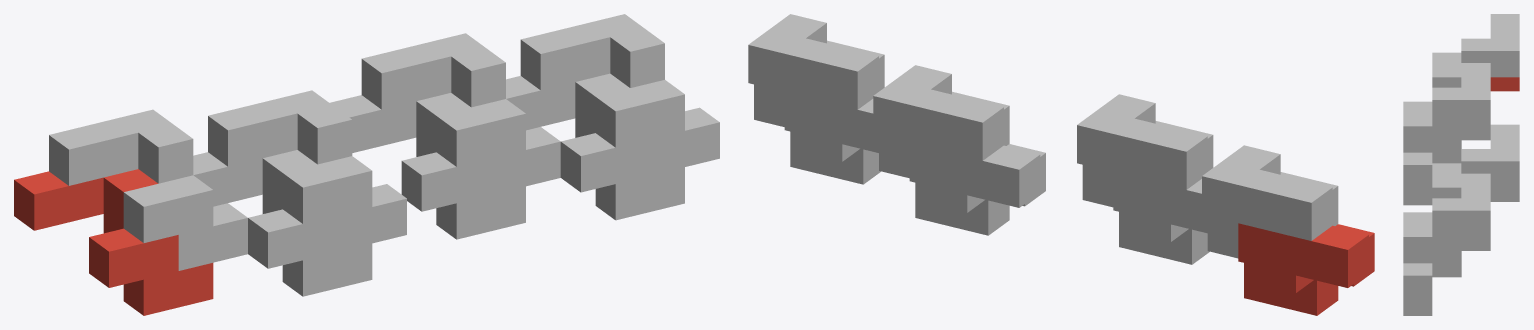
File: tiling.obj
The picture shows the model from 3 angles, left to right: view 1: azimuth 30°, elevation 25°; view 2: azimuth 150°, elevation 25°; view 3: azimuth 270°, elevation 25°; orthographic projection. The views are drawn at different scales.
Parts seen in each view (by area): view 1: copy_1_domain_3, copy_1_domain_4, copy_1_domain_8, copy_1_domain_7, copy_1_domain_1, copy_1_domain_5, copy_1_domain_2, copy_1_domain_6; view 2: copy_1_domain_4, copy_1_domain_8, copy_1_domain_3, copy_1_domain_7, copy_1_domain_5, copy_1_domain_1, copy_1_domain_6, copy_1_domain_2; view 3: copy_1_domain_4, copy_1_domain_8, copy_1_domain_3, copy_1_domain_7, copy_1_domain_6, copy_1_domain_2, copy_1_domain_1, copy_1_domain_5.
Part boxes in pixels (bbox=[...]): copy_1_domain_3: bbox=[49, 109, 247, 270]; copy_1_domain_4: bbox=[208, 90, 406, 251]; copy_1_domain_8: bbox=[520, 14, 719, 175]; copy_1_domain_7: bbox=[361, 33, 560, 194]; copy_1_domain_1: bbox=[14, 169, 213, 315]; copy_1_domain_5: bbox=[330, 93, 525, 239]; copy_1_domain_2: bbox=[193, 150, 372, 296]; copy_1_domain_6: bbox=[506, 73, 684, 220]; copy_1_domain_4: bbox=[1077, 94, 1213, 207]; copy_1_domain_8: bbox=[748, 14, 884, 126]; copy_1_domain_3: bbox=[1202, 145, 1338, 258]; copy_1_domain_7: bbox=[873, 65, 1009, 178]; copy_1_domain_5: bbox=[909, 143, 1045, 235]; copy_1_domain_1: bbox=[1238, 223, 1374, 315]; copy_1_domain_6: bbox=[784, 92, 894, 184]; copy_1_domain_2: bbox=[1113, 172, 1222, 264]; copy_1_domain_4: bbox=[1403, 63, 1490, 191]; copy_1_domain_8: bbox=[1403, 173, 1490, 301]; copy_1_domain_3: bbox=[1432, 14, 1519, 87]; copy_1_domain_7: bbox=[1432, 124, 1519, 198]; copy_1_domain_6: bbox=[1403, 237, 1490, 315]; copy_1_domain_2: bbox=[1403, 126, 1490, 205]; copy_1_domain_1: bbox=[1490, 77, 1519, 91]; copy_1_domain_5: bbox=[1490, 187, 1519, 201].
Size of the model in its own units: 18 by 4 by 4.
